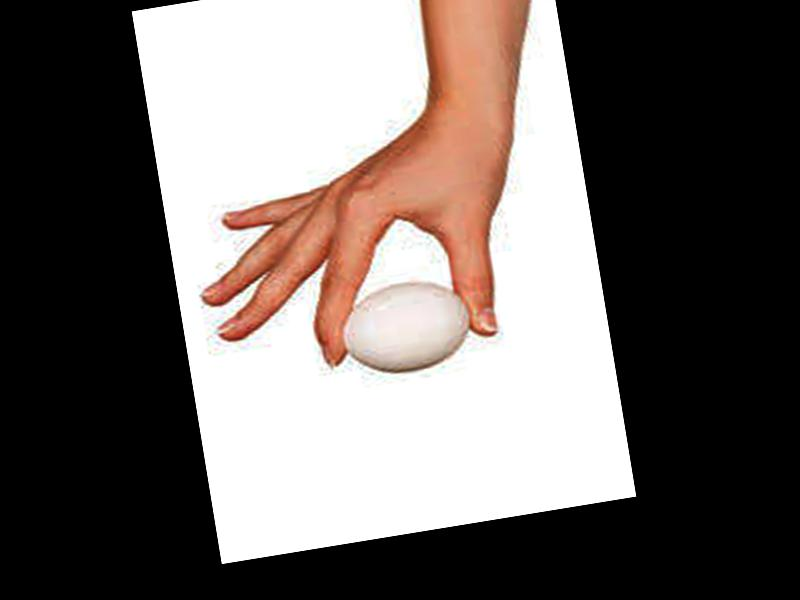Eggs: (335, 273, 476, 383)
